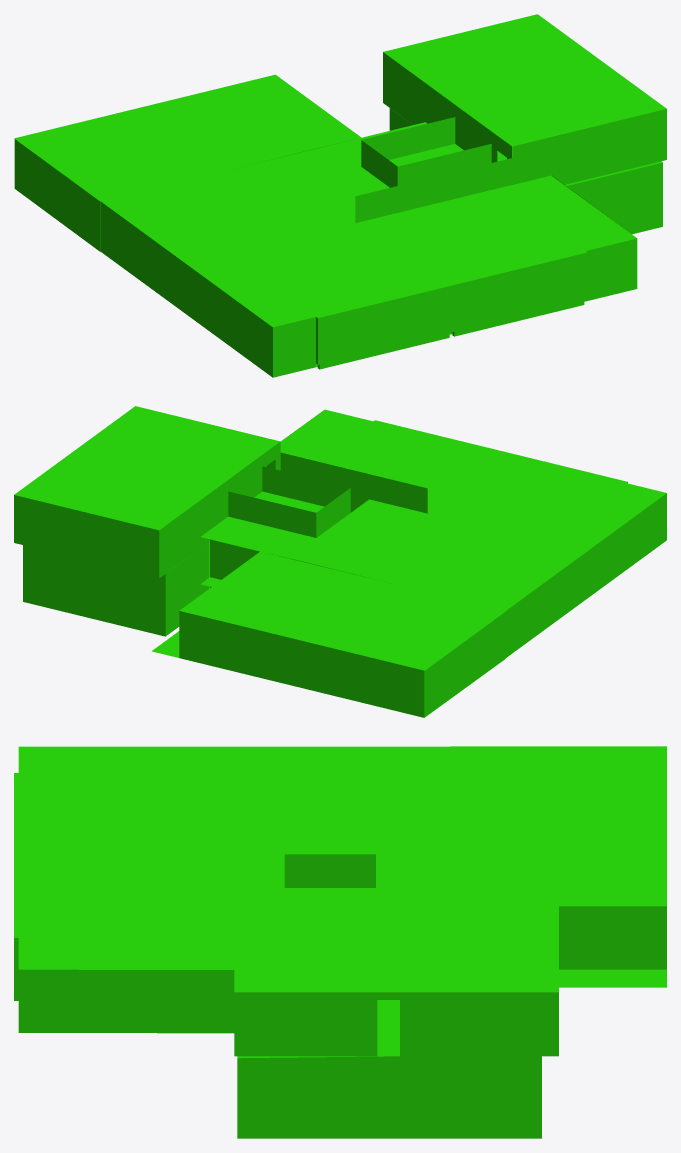
File: rooms_physics.glb
3 renders of one model, top to bottom at view 1: azimuth 30°, elevation 25°; view 2: azimuth 150°, elevation 25°; view 3: azimuth 270°, elevation 25°, orthographic. The views are drawn at different scales.
Parts seen in each view (by area): view 1: Plane.001; view 2: Plane.001; view 3: Plane.001.
Part boxes in pixels (<box>): Plane.001: <box>14,14,666,377</box>; Plane.001: <box>14,406,666,717</box>; Plane.001: <box>14,746,666,1138</box>.
Size of the model in its own units: 259 by 67.65 by 243.
